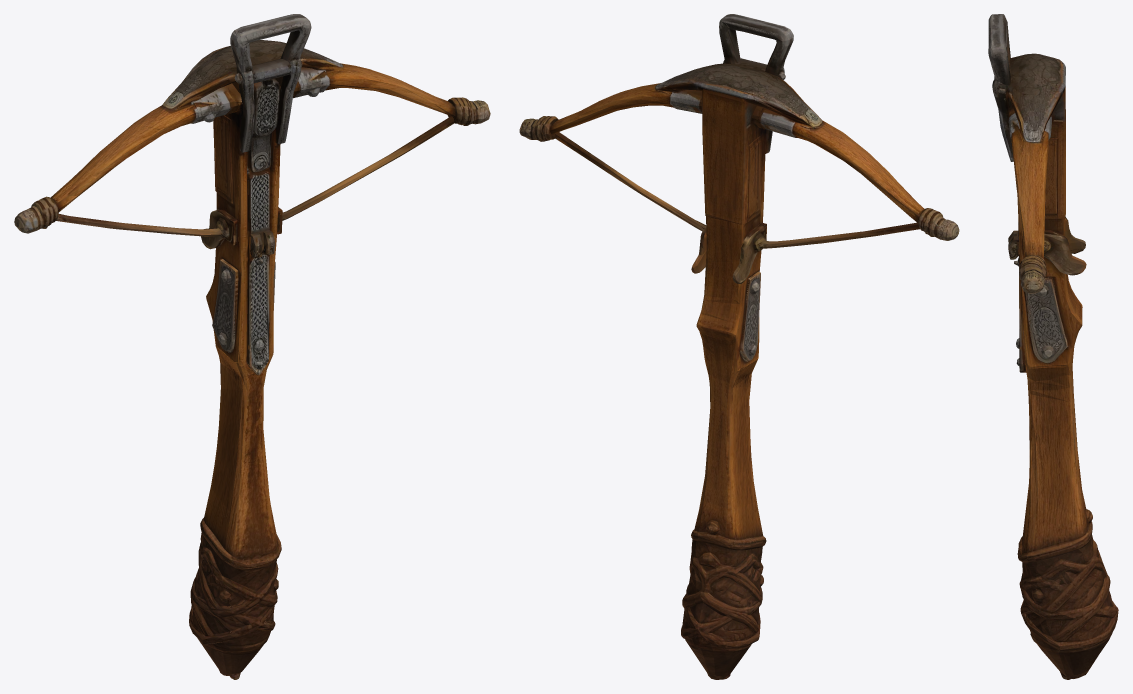
Rendered from crossbow-light.glb.
3 renders of one model, left to right at view 1: azimuth 30°, elevation 25°; view 2: azimuth 150°, elevation 25°; view 3: azimuth 270°, elevation 25°, orthographic. The views are drawn at different scales.
Visible parts, largest first — view 1: crossbow-light; view 2: crossbow-light; view 3: crossbow-light.
Part boxes in pixels (<box>): crossbow-light: <box>14,14,490,679</box>; crossbow-light: <box>519,14,959,679</box>; crossbow-light: <box>988,14,1118,679</box>.
Size of the model in its own units: 0.5406 by 0.7498 by 0.1358.
Materials: 1 (1 with a texture image).
